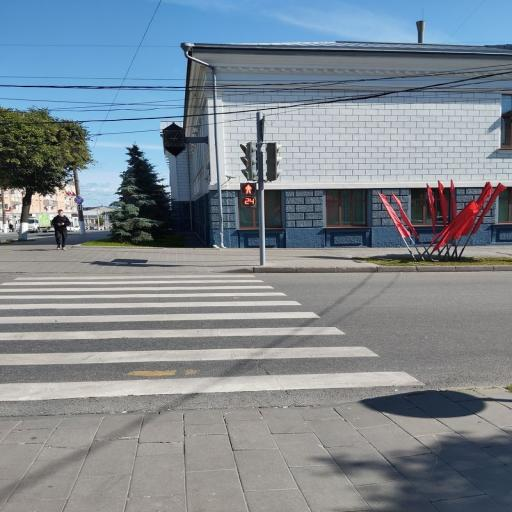chair: (0, 274, 422, 401)
glass_wall: (0, 389, 512, 512)
pole: (240, 141, 258, 181), (266, 142, 282, 181)
